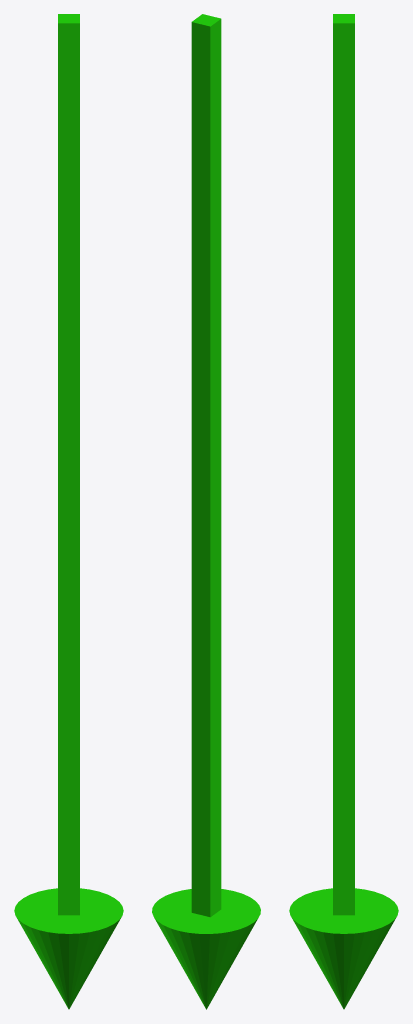
File: DirectionnalLight.obj
3 views of the same model, side by side, from view 1: azimuth 90°, elevation 25°; view 2: azimuth 150°, elevation 25°; view 3: azimuth 270°, elevation 25° (orthographic).
Visible parts, largest first — view 1: Cone; view 2: Cone; view 3: Cone.
Part boxes in pixels (<box>): Cone: <box>14,14,123,1009</box>; Cone: <box>152,14,260,1009</box>; Cone: <box>289,14,398,1009</box>.
Size of the model in its own units: 0.25 by 2.5 by 0.25.
